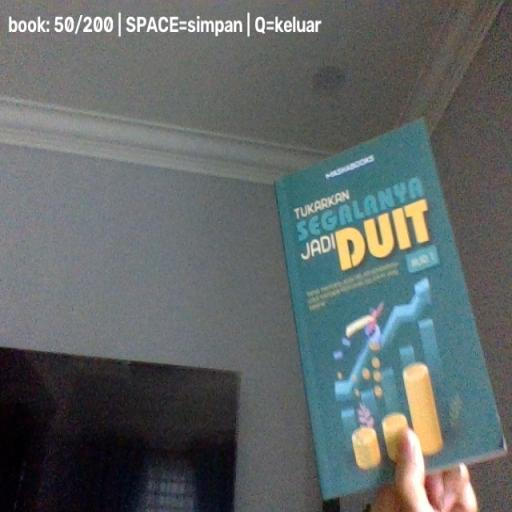Book: (272, 116, 506, 500)
